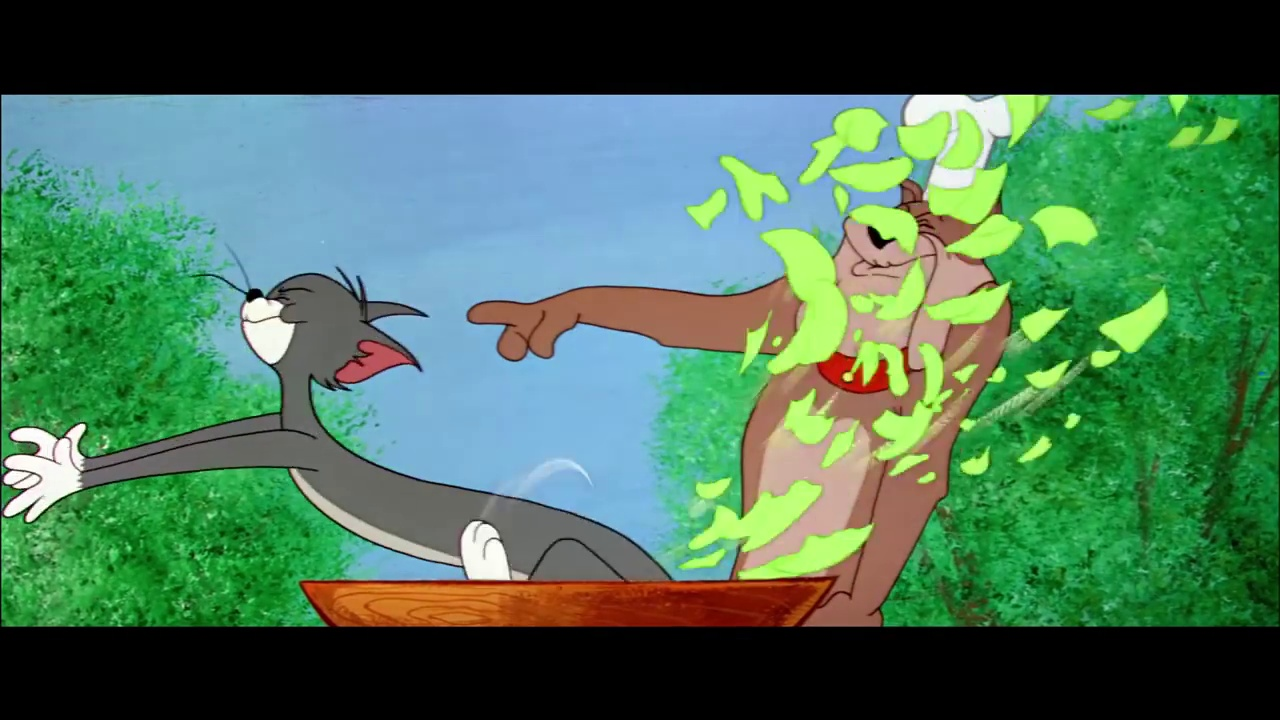tom: (223, 259, 432, 400)
